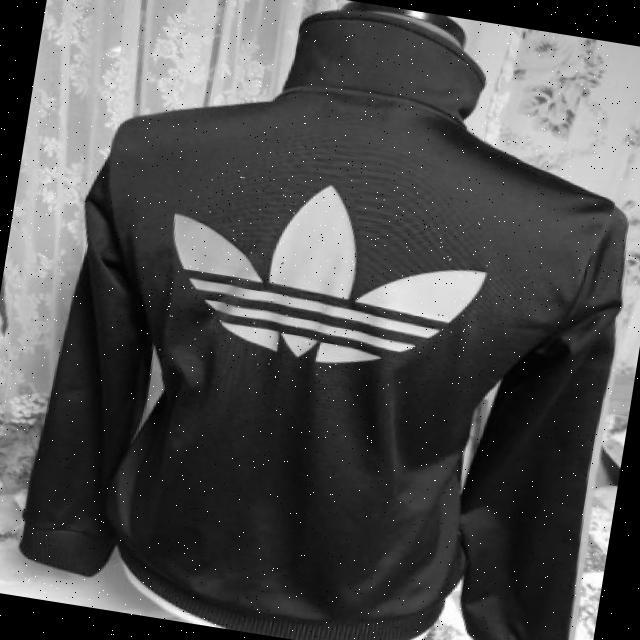Adidas: (139, 152, 508, 401)
